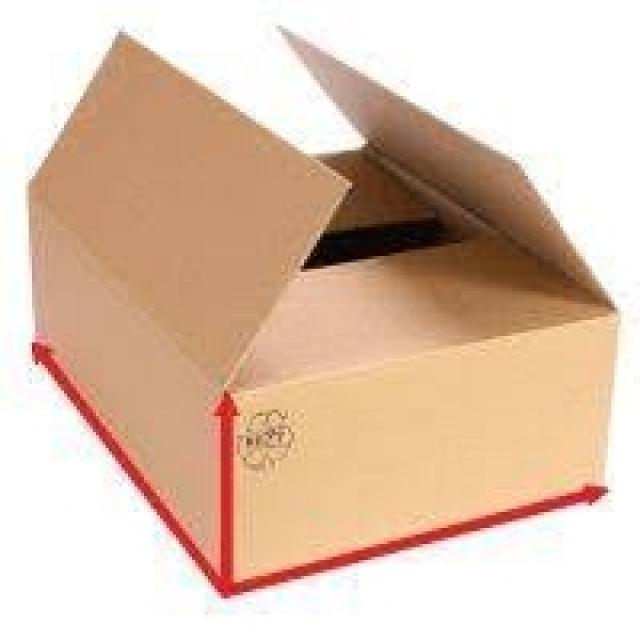cardboard paper: (28, 30, 615, 593)
